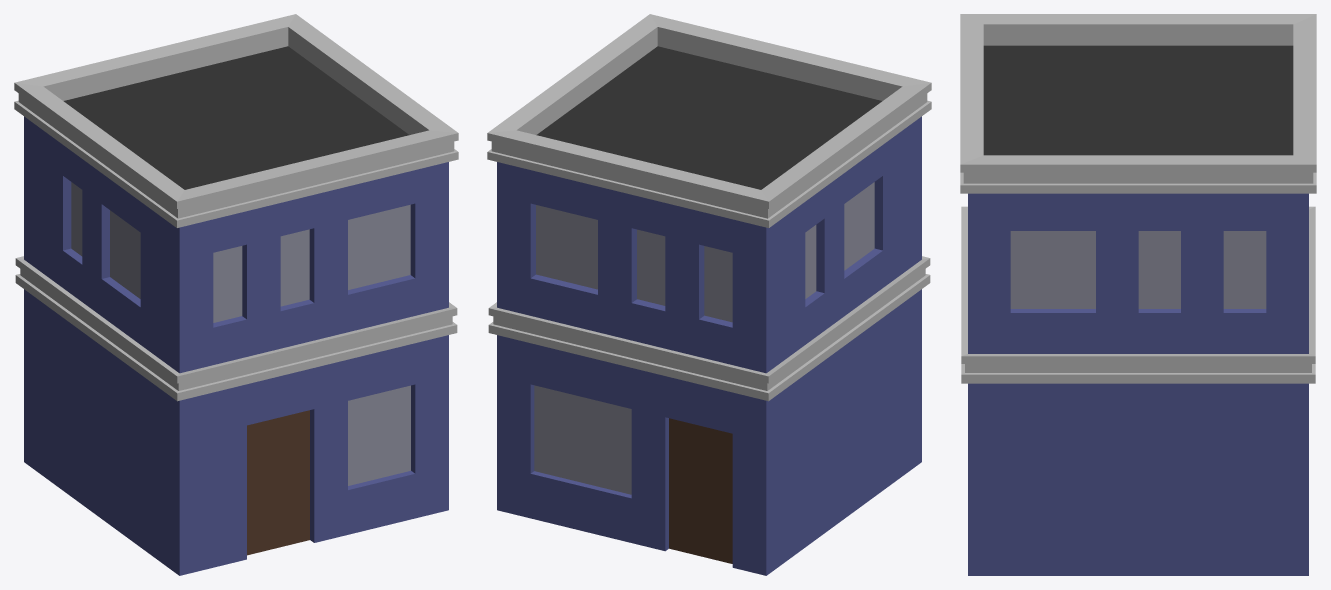
Rendered from building 2.fbx.
3 views of the same model, side by side, from view 1: azimuth 30°, elevation 25°; view 2: azimuth 150°, elevation 25°; view 3: azimuth 270°, elevation 25° (orthographic). The views are drawn at different scales.
Visible parts, largest first — view 1: Cube; view 2: Cube; view 3: Cube.
Part boxes in pixels (x1,y1,x2,y2): Cube: (14, 14, 458, 575); Cube: (487, 14, 931, 575); Cube: (960, 14, 1316, 575).
Bounding box in the file's own units: 981 × 1259 × 981.
